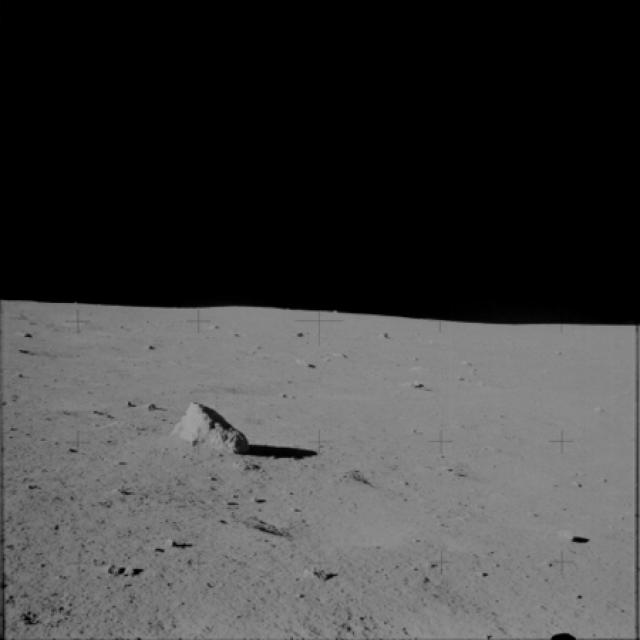crater: (229, 496, 424, 565), (436, 456, 552, 493), (342, 464, 411, 496)
rock: (172, 400, 249, 468), (96, 555, 138, 584), (140, 534, 183, 558), (302, 563, 333, 589), (106, 482, 132, 504), (556, 531, 584, 550), (136, 398, 161, 416)
